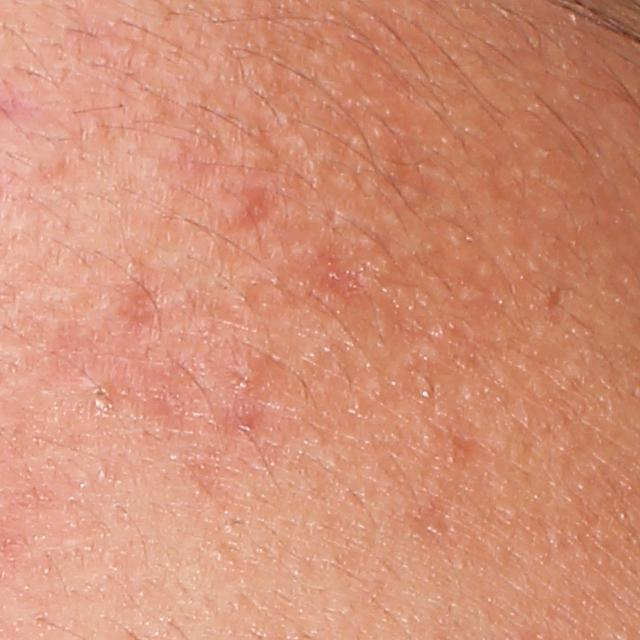comedo: (84, 380, 115, 410)
